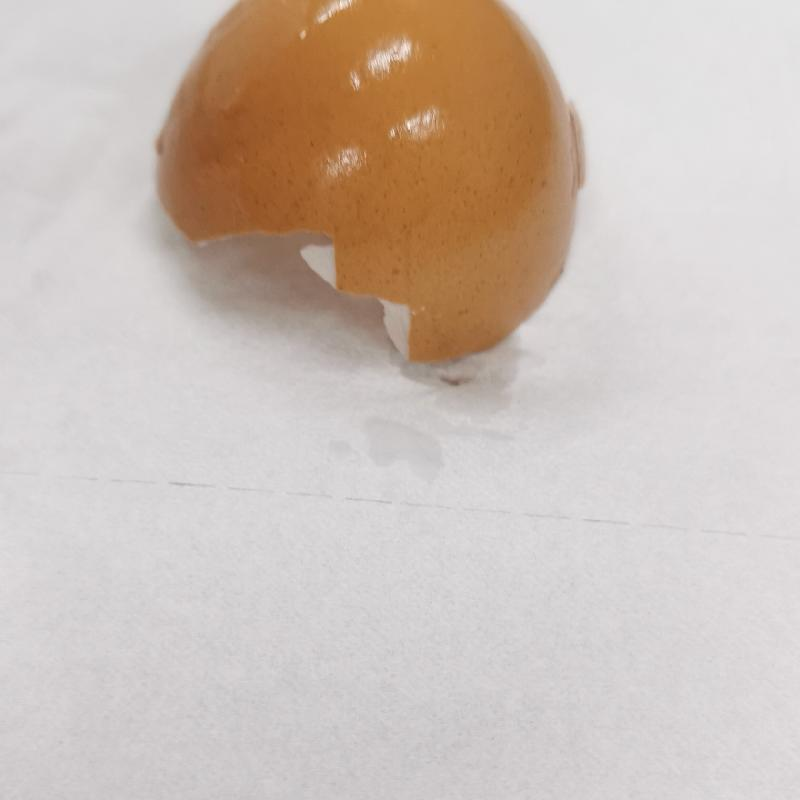eggshell: (140, 0, 588, 371)
